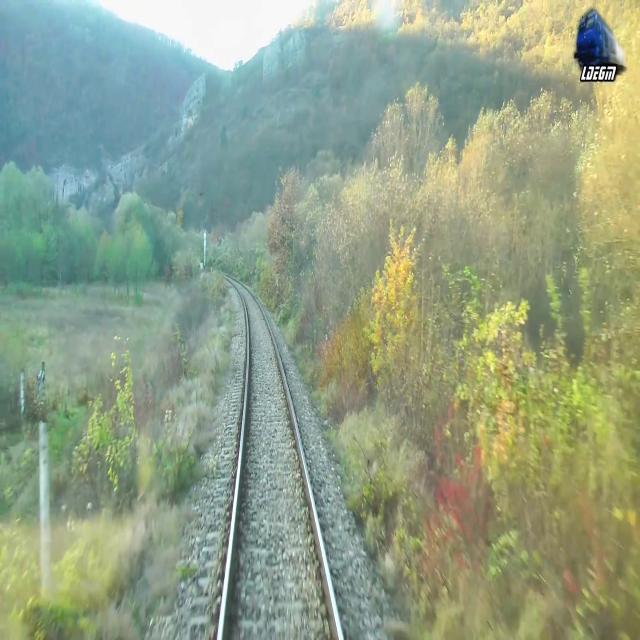rail-track: (222, 277, 339, 639)
